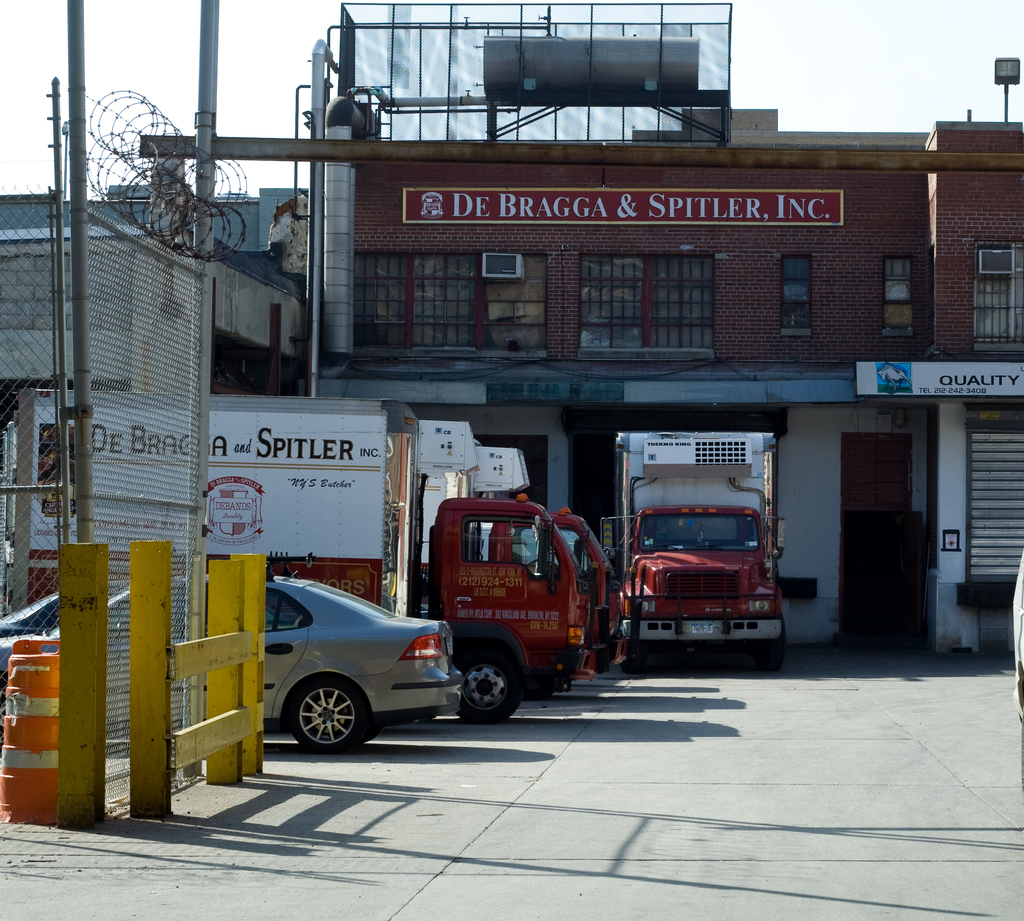car: (244, 556, 477, 769)
truck: (1, 388, 593, 729), (599, 405, 808, 662)
